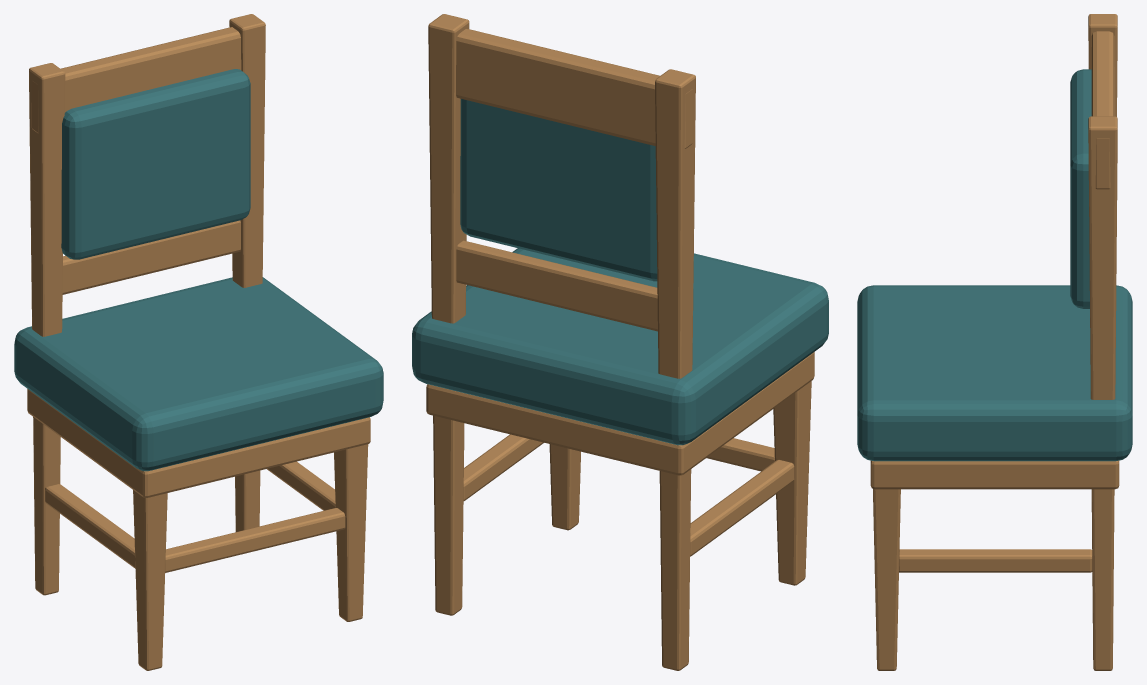
File: seat-first.gltf
3 views of the same model, side by side, from view 1: azimuth 30°, elevation 25°; view 2: azimuth 150°, elevation 25°; view 3: azimuth 270°, elevation 25° (orthographic). The views are drawn at different scales.
Parts seen in each view (by area): view 1: seat_cushion, back_cushion, leg_back_-1.0, seat_frame, back_rail, leg_back_1.0, back_slat, leg_front_-1.0, leg_front_1.0, stretcher_front, stretcher_side_-1.0, stretcher_side_1.0; view 2: seat_cushion, back_cushion, leg_back_-1.0, leg_back_1.0, back_rail, seat_frame, back_slat, leg_front_-1.0, stretcher_side_-1.0, leg_front_1.0, stretcher_side_1.0, stretcher_front; view 3: seat_cushion, leg_back_1.0, seat_frame, back_cushion, stretcher_side_1.0, leg_front_1.0, back_rail, leg_back_-1.0.
Boxes of the visible parts, left/top/right/bottom form: seat_cushion: left=14, top=277, right=383, bottom=471; back_cushion: left=61, top=69, right=250, bottom=259; leg_back_-1.0: left=29, top=63, right=65, bottom=595; seat_frame: left=27, top=389, right=370, bottom=497; back_rail: left=31, top=27, right=241, bottom=133; leg_back_1.0: left=229, top=14, right=265, bottom=531; back_slat: left=62, top=220, right=240, bottom=294; leg_front_-1.0: left=133, top=490, right=167, bottom=670; leg_front_1.0: left=334, top=444, right=368, bottom=621; stretcher_front: left=165, top=508, right=345, bottom=572; stretcher_side_-1.0: left=45, top=484, right=135, bottom=568; stretcher_side_1.0: left=267, top=461, right=335, bottom=510; seat_cushion: left=412, top=248, right=828, bottom=445; back_cushion: left=460, top=99, right=657, bottom=281; leg_back_-1.0: left=655, top=69, right=695, bottom=670; leg_back_1.0: left=428, top=14, right=469, bottom=615; back_rail: left=456, top=29, right=692, bottom=148; seat_frame: left=426, top=352, right=814, bottom=475; back_slat: left=456, top=240, right=657, bottom=331; leg_front_-1.0: left=773, top=381, right=811, bottom=585; stretcher_side_-1.0: left=690, top=460, right=794, bottom=556; leg_front_1.0: left=549, top=444, right=580, bottom=530; stretcher_side_1.0: left=463, top=434, right=543, bottom=500; stretcher_front: left=706, top=438, right=774, bottom=471; seat_cushion: left=857, top=285, right=1132, bottom=461; leg_back_1.0: left=1088, top=116, right=1117, bottom=670; seat_frame: left=870, top=460, right=1119, bottom=489; back_cushion: left=1070, top=69, right=1091, bottom=308; stretcher_side_1.0: left=899, top=549, right=1092, bottom=572; leg_front_1.0: left=873, top=489, right=900, bottom=670; back_rail: left=1091, top=31, right=1114, bottom=189; leg_back_-1.0: left=1088, top=14, right=1117, bottom=116.
Bounding box in the file's own units: 0.46 × 0.92 × 0.42.
